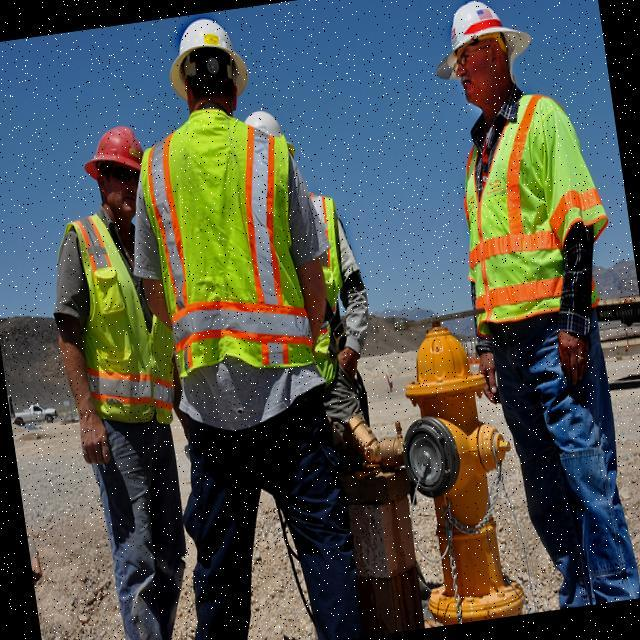fire_hydrant: (383, 313, 535, 628)
